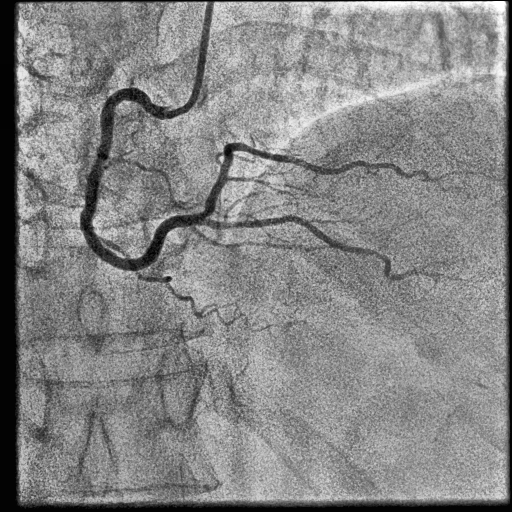pborca: (202, 142, 429, 218)
pda: (203, 214, 446, 280)
rca: (80, 87, 206, 271)
